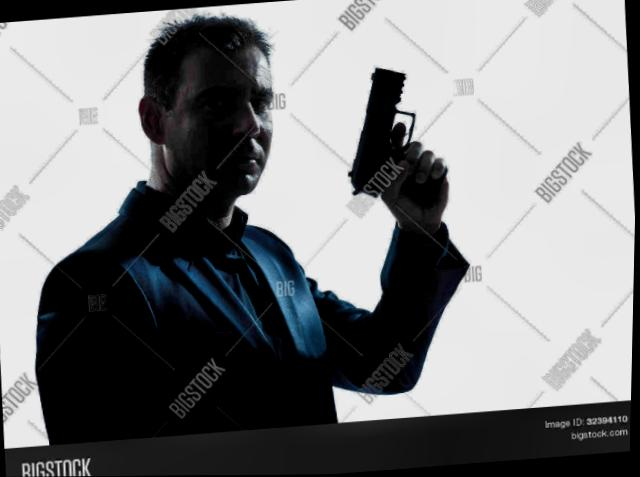pistol: (334, 60, 437, 203)
